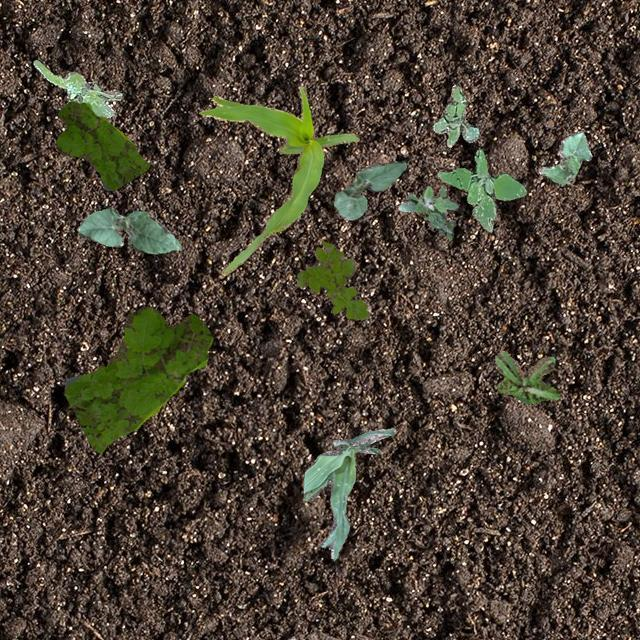crop: (198, 86, 358, 274), (302, 426, 394, 558), (76, 206, 180, 252), (332, 160, 406, 218), (538, 130, 590, 184)
weed: (64, 306, 212, 452), (54, 100, 148, 190), (436, 148, 526, 230), (296, 240, 368, 318), (32, 58, 120, 116), (492, 350, 560, 402), (396, 184, 456, 240), (432, 84, 478, 146)
